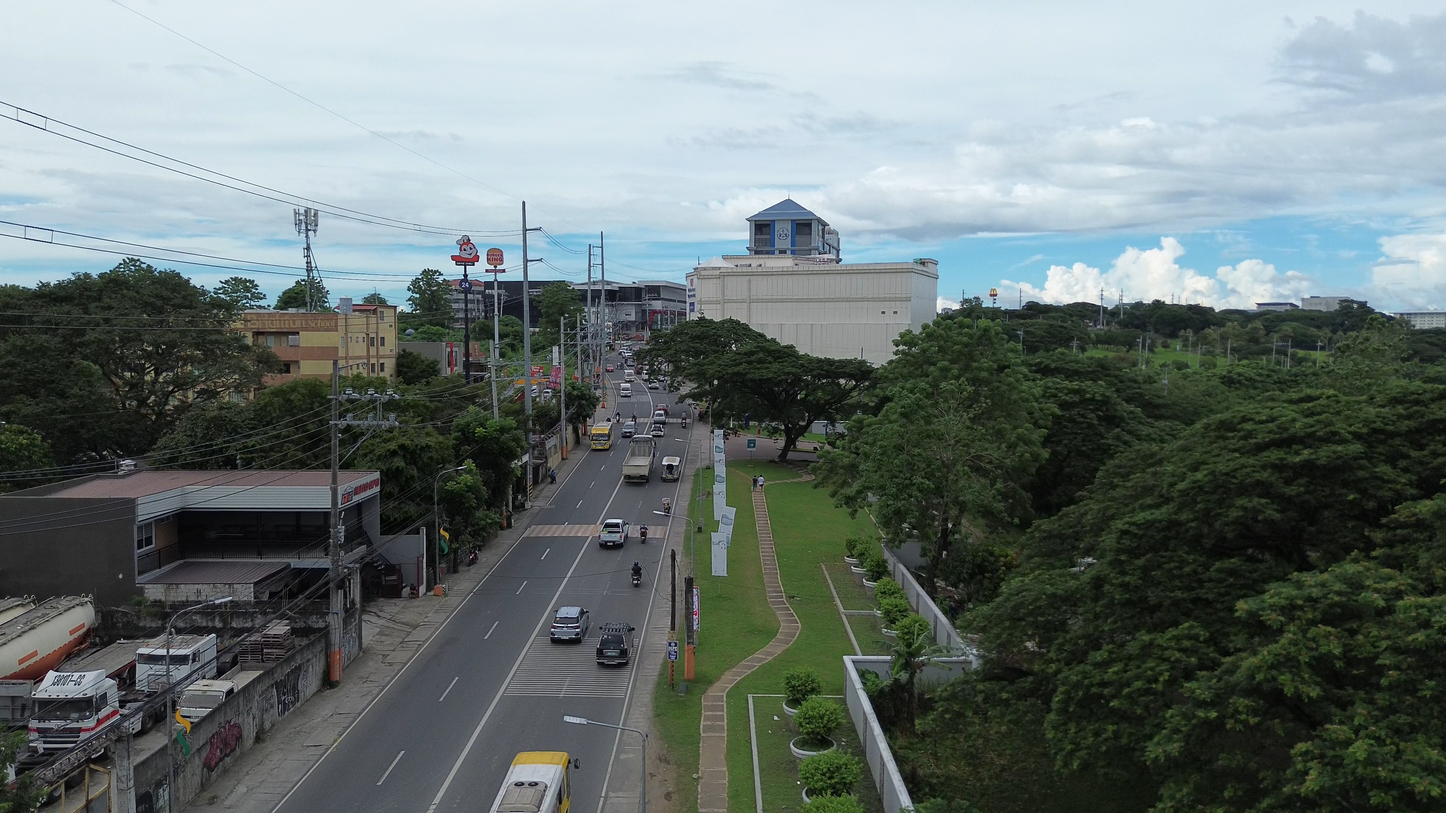car: (549, 606, 590, 643), (650, 423, 665, 437), (647, 381, 660, 390)
motorcycle: (466, 550, 478, 566), (631, 571, 641, 587)
vehicle: (0, 596, 95, 681), (29, 670, 119, 754), (489, 751, 571, 813), (136, 634, 217, 692), (177, 679, 235, 722), (596, 622, 635, 665), (622, 437, 655, 483), (599, 518, 628, 547), (589, 422, 614, 449), (660, 456, 682, 481), (622, 420, 636, 438), (649, 422, 665, 437), (653, 406, 667, 421), (639, 524, 648, 543), (619, 383, 631, 397), (647, 379, 660, 390), (624, 369, 635, 382), (606, 364, 615, 373)
